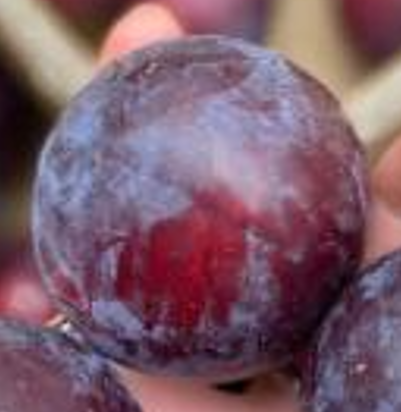plum_A: (30, 35, 371, 383)
